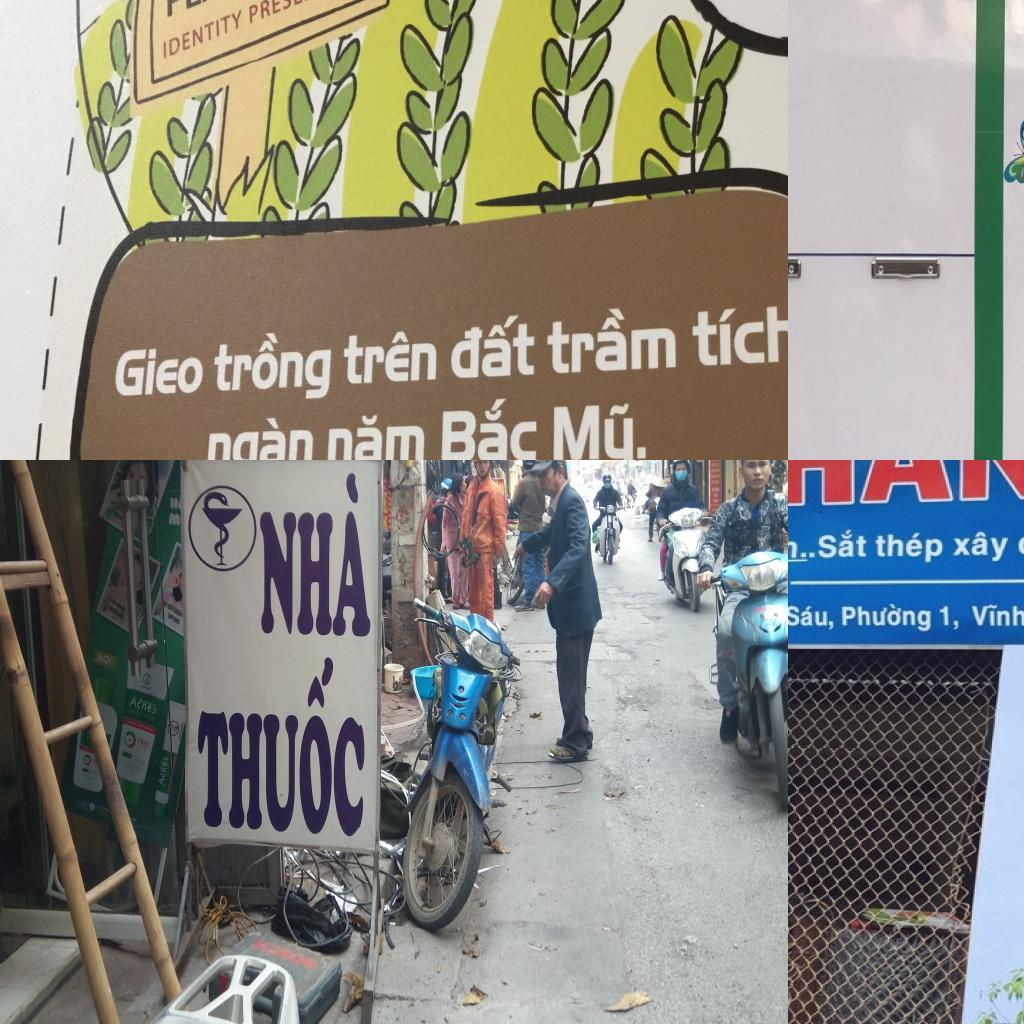text: (194, 652, 368, 840), (258, 470, 373, 639), (788, 460, 1024, 508), (212, 328, 338, 405), (546, 304, 680, 376), (439, 393, 539, 460), (691, 301, 788, 369), (447, 310, 538, 382), (342, 324, 440, 390), (114, 336, 208, 398), (198, 413, 319, 460), (324, 410, 429, 460), (161, 5, 244, 63), (246, 0, 353, 28), (840, 604, 934, 634), (875, 530, 945, 566), (251, 938, 319, 972), (952, 531, 1011, 565), (814, 528, 870, 560), (788, 604, 836, 631), (970, 604, 1024, 627), (939, 604, 962, 632), (129, 696, 157, 716), (158, 756, 168, 787), (95, 652, 113, 668), (127, 707, 144, 718), (168, 511, 180, 526), (382, 485, 388, 514), (137, 737, 151, 748), (758, 601, 776, 609), (168, 496, 178, 510), (144, 712, 156, 723), (754, 606, 767, 614), (382, 515, 388, 532), (711, 486, 720, 492), (713, 492, 719, 498), (92, 757, 96, 764)
